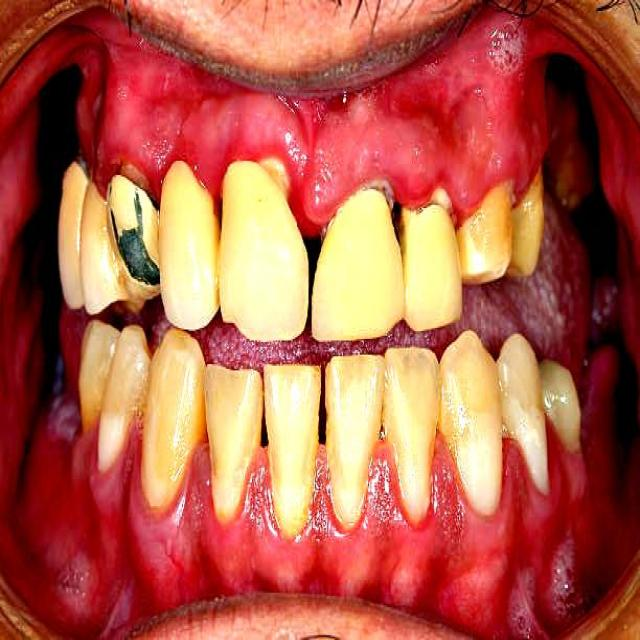caries: (115, 149, 163, 221), (352, 163, 400, 219)
